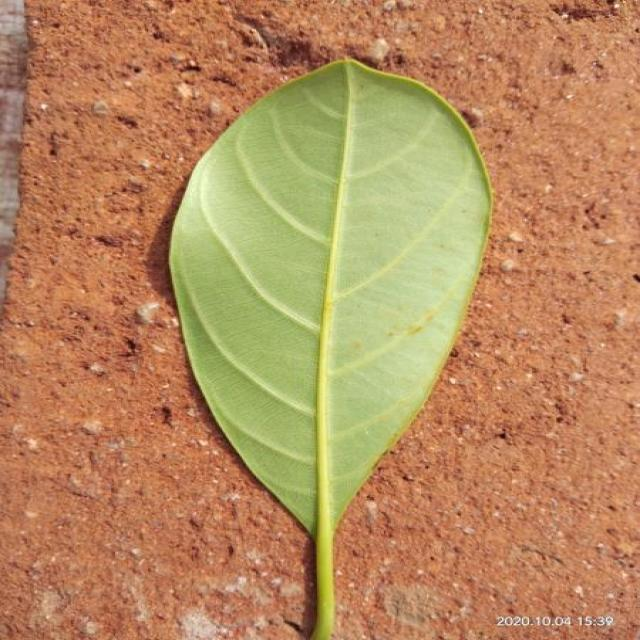leaf: (166, 56, 494, 639)
